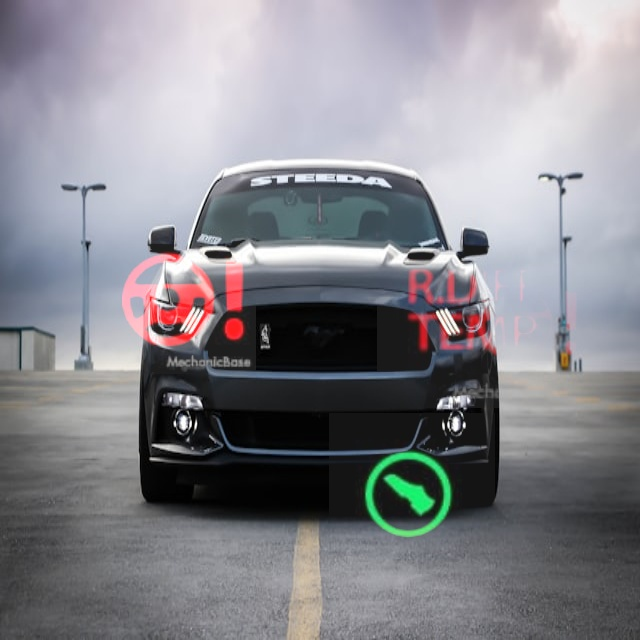symbol: (377, 214, 571, 408), (329, 413, 495, 579), (110, 228, 256, 374), (468, 263, 590, 385)
